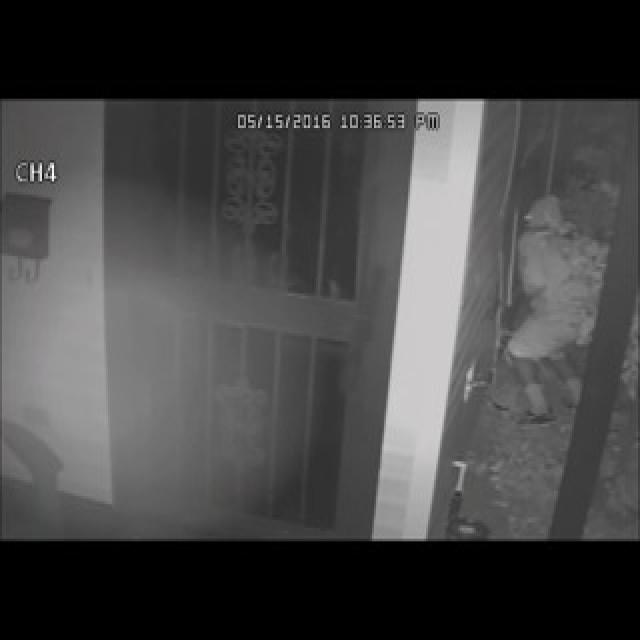thief: (507, 172, 618, 364)
